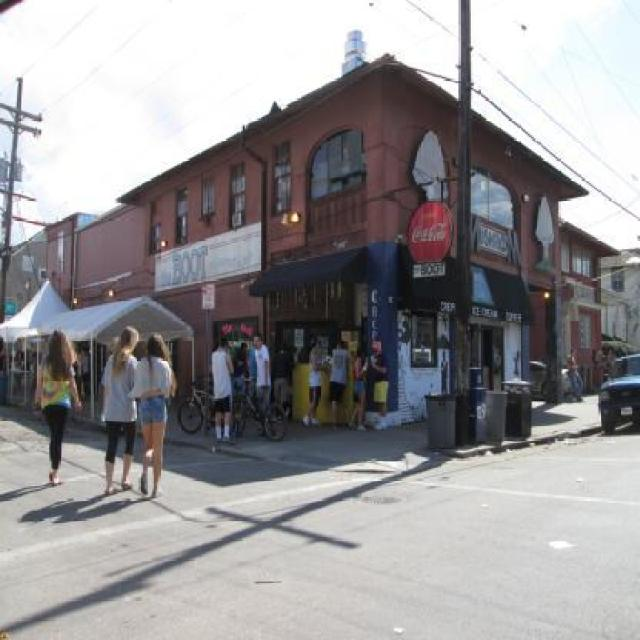Person: (89, 325, 148, 506), (209, 332, 293, 446), (32, 326, 82, 486), (0, 346, 95, 406), (303, 333, 328, 425), (329, 338, 354, 429), (369, 338, 389, 432), (348, 343, 369, 432), (564, 348, 584, 403), (592, 348, 616, 381), (440, 350, 449, 396)
